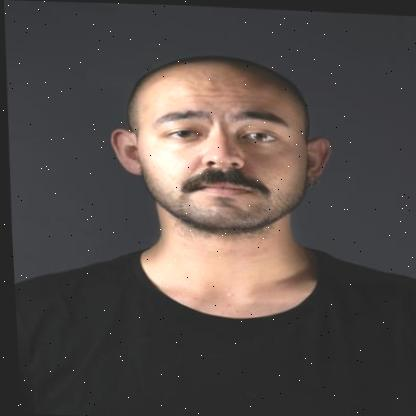person: (2, 42, 416, 416)
